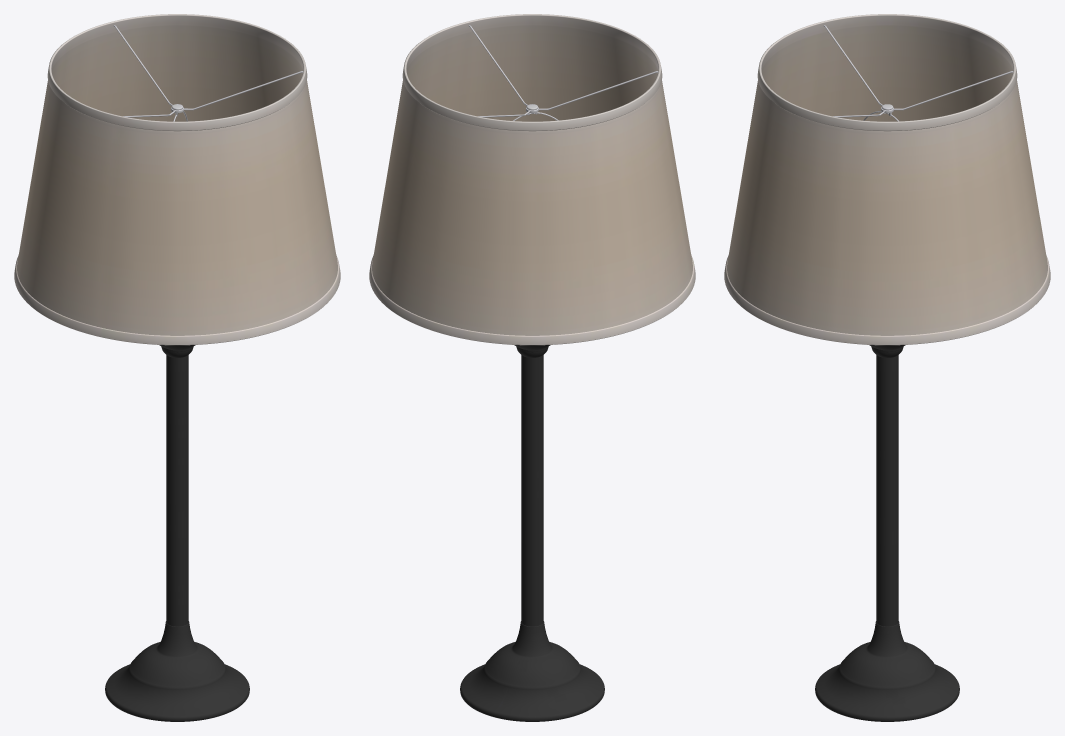
Rendered from abo-B07DBK2YGX.glb.
3 views of the same model, side by side, from view 1: azimuth 30°, elevation 25°; view 2: azimuth 150°, elevation 25°; view 3: azimuth 270°, elevation 25° (orthographic).
Bounding box in the file's own units: 0.331 × 0.698 × 0.331.
Materials: 1 (1 with a texture image).
